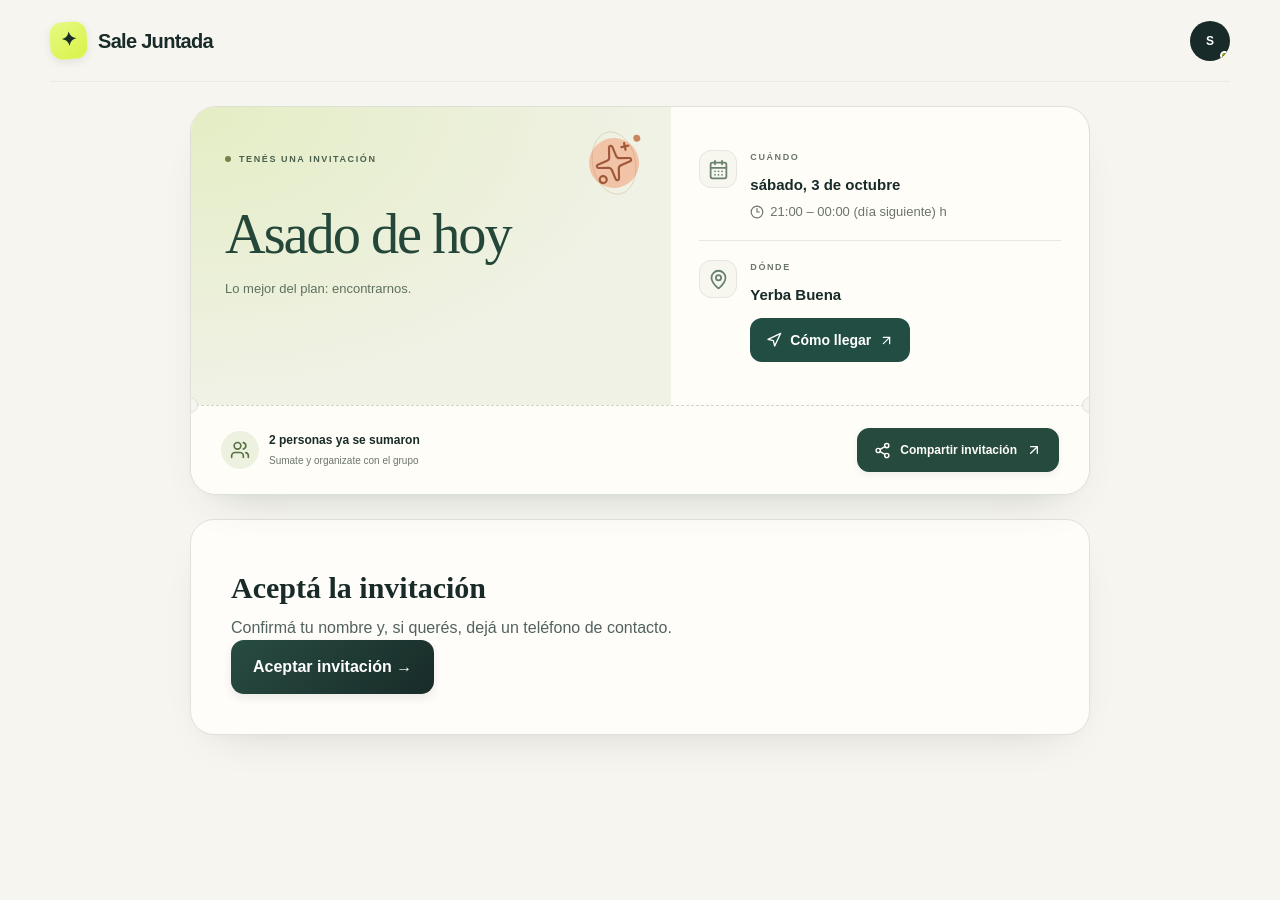
it: invitación y asistencia en vivo › guarda el teléfono normalizado y recupera la participación de Google
Click the button "Aceptar invitación →" at (333, 667), box [231,640,434,694]
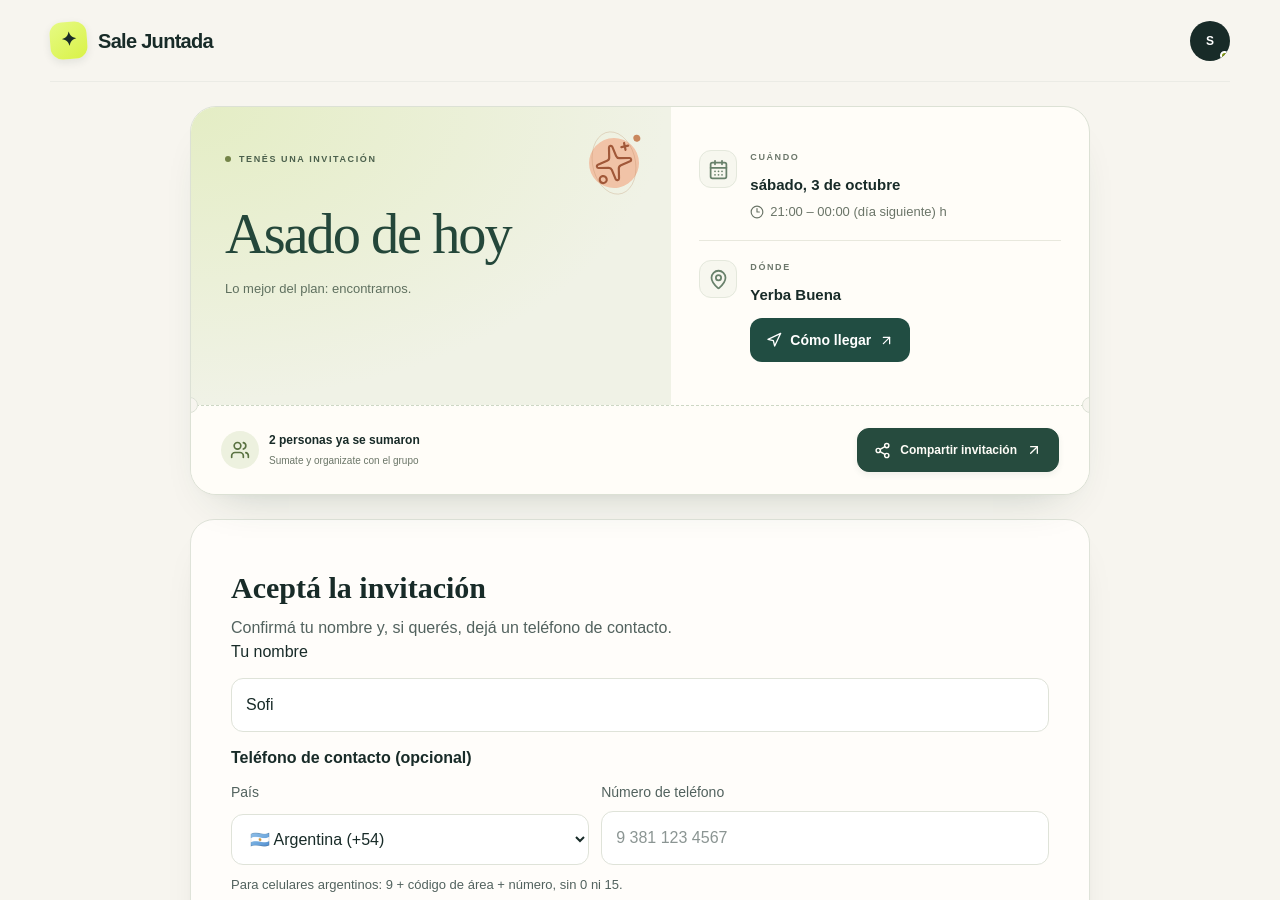
expect the field labelled "Tu nombre" holds "Sofi": met, box [231,678,1049,732]
Select "ES" in the dropdown labelled "País" at (410, 839), box [231,814,589,865]
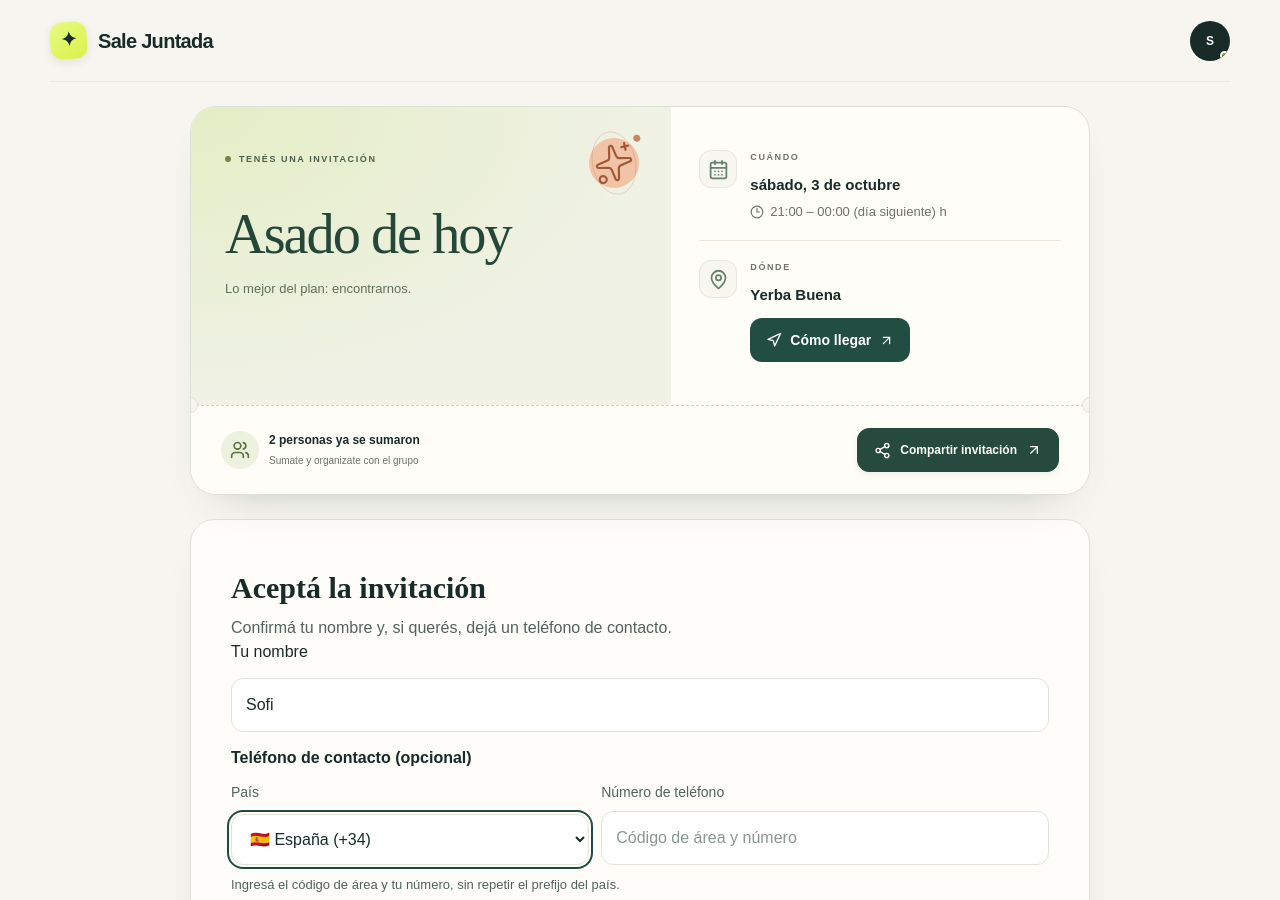
Type "612 345 678" into the field labelled "Número de teléfono" at (825, 838), box [601,811,1049,865]
(page scrolled)
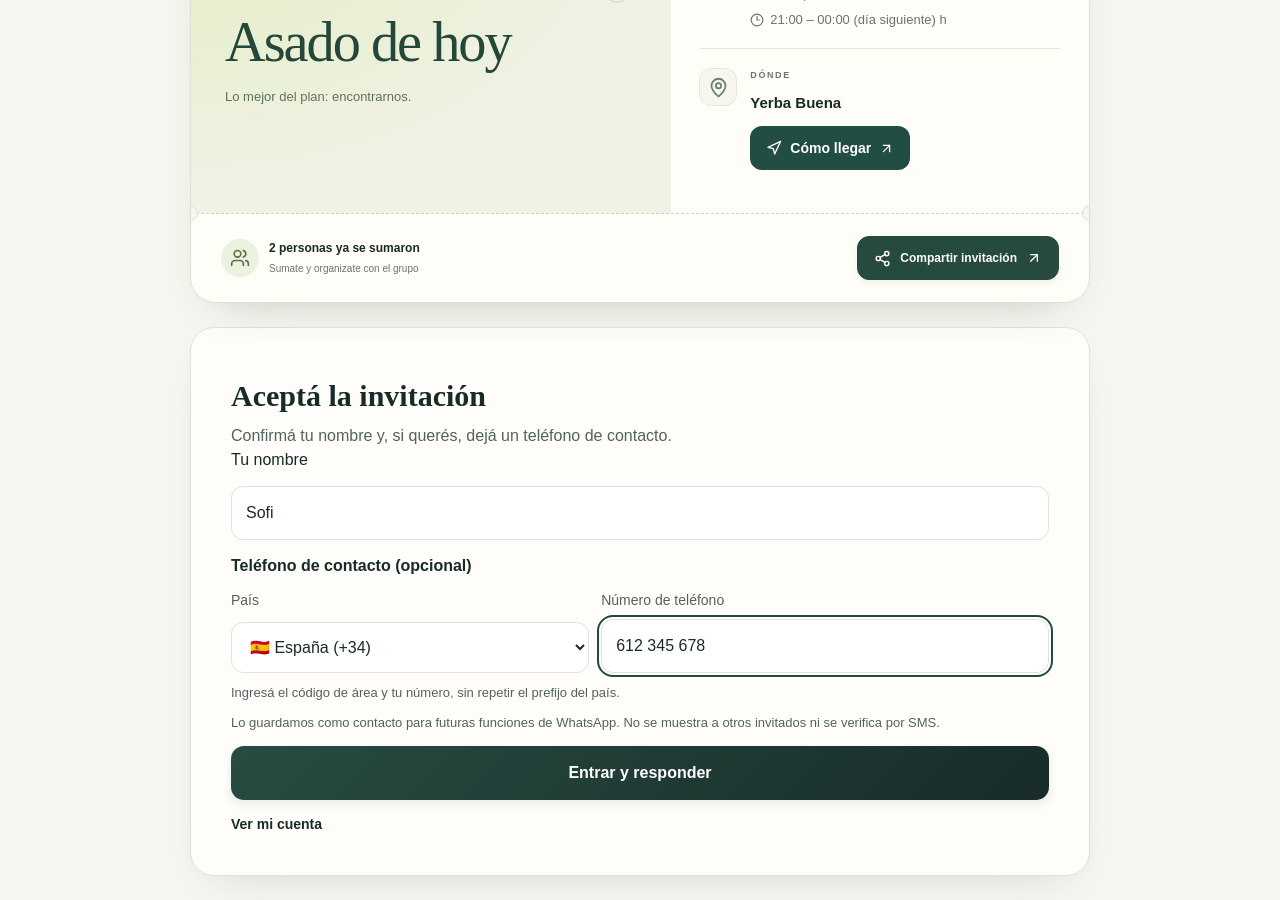
Click the button "Entrar y responder" at (640, 773), box [231,746,1049,800]
(page scrolled)
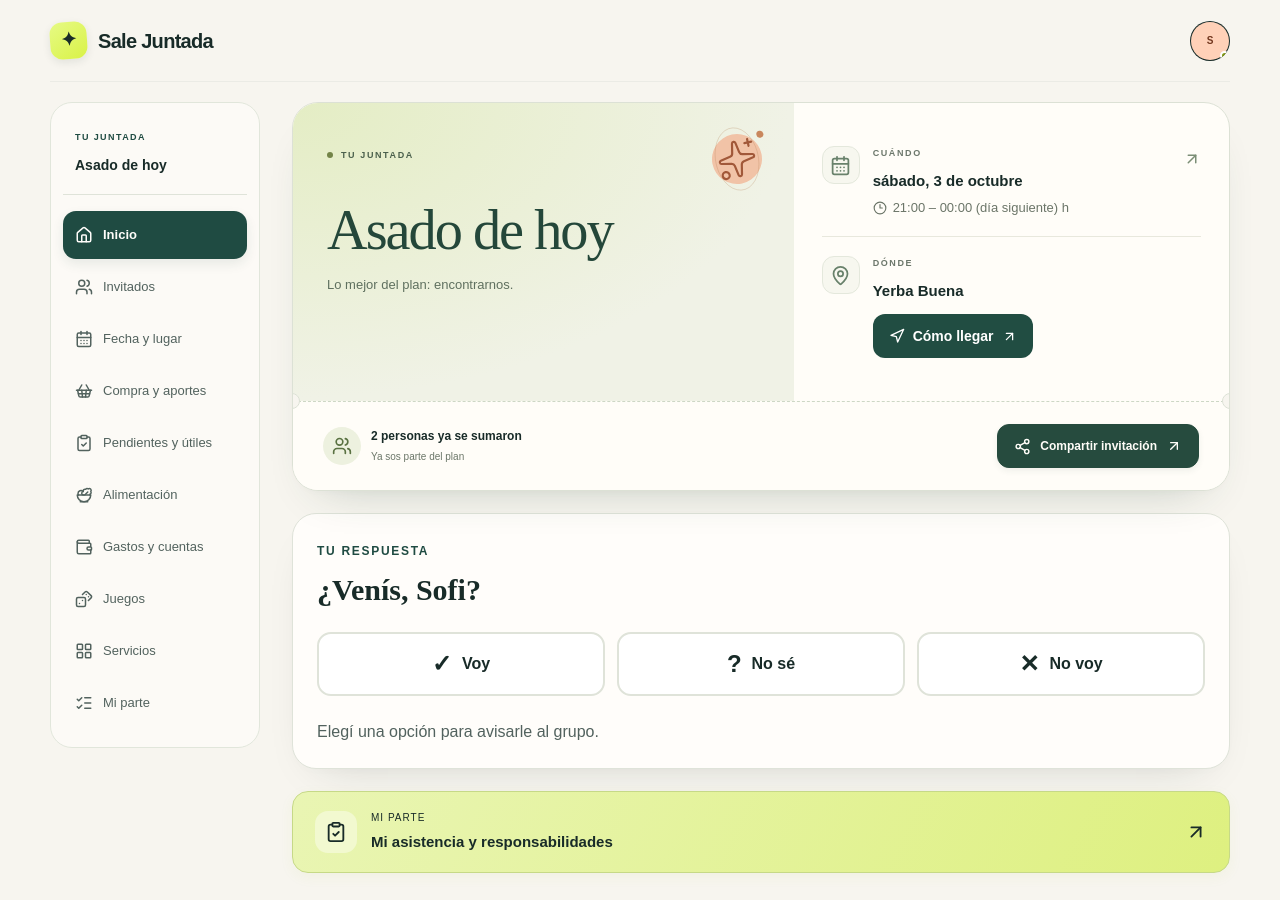
expect the element named "Tu asistencia" is shown: met, box [317,632,1205,696]
